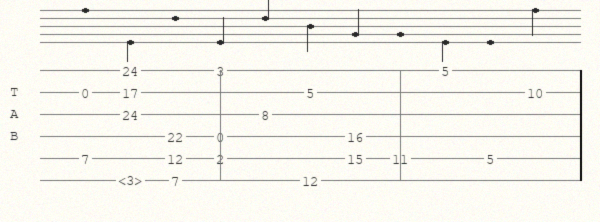0: (81, 86, 93, 99), (216, 130, 228, 143)
10: (527, 86, 547, 99)
11: (392, 152, 412, 165)
12: (167, 152, 187, 165), (302, 174, 322, 187)
15: (347, 152, 367, 165)
16: (347, 130, 367, 143)
17: (122, 86, 142, 99)
2: (216, 152, 228, 165)
22: (167, 130, 187, 143)
24: (122, 64, 142, 77), (122, 108, 142, 121)
3: (216, 64, 228, 77)
5: (306, 86, 318, 99), (441, 64, 453, 77), (486, 152, 498, 165)
7: (81, 152, 93, 165), (171, 174, 183, 187)
8: (261, 108, 273, 121)
harmonic: (118, 173, 146, 187)
